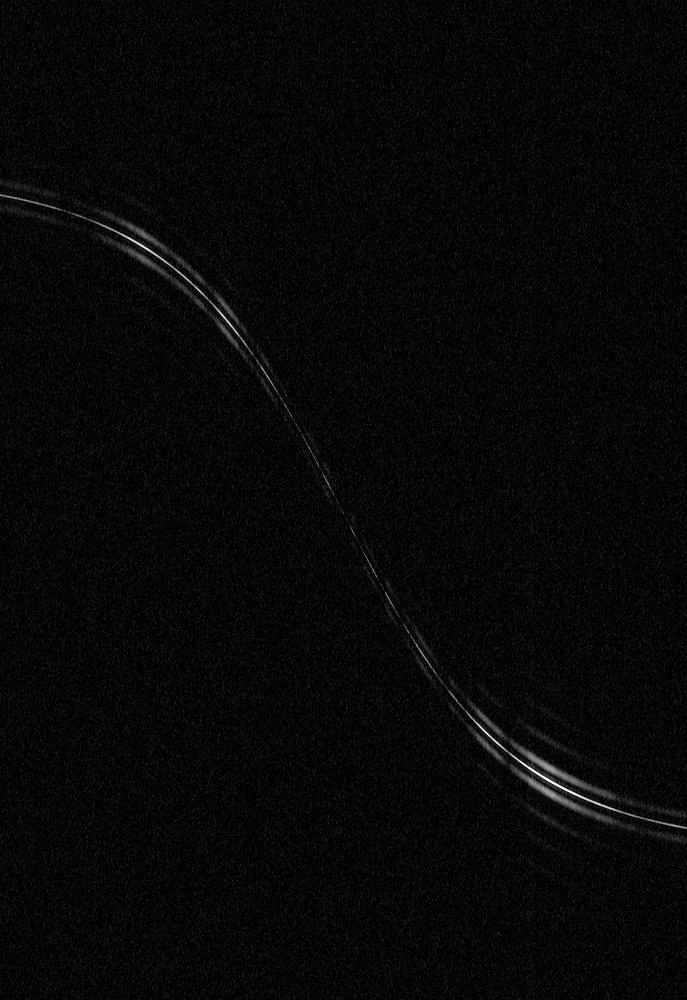signal: (0, 0, 686, 999)
